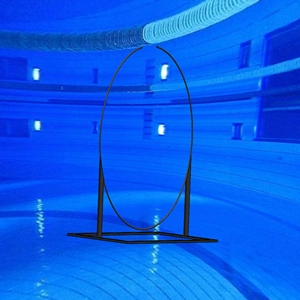circle: (66, 44, 219, 246)
